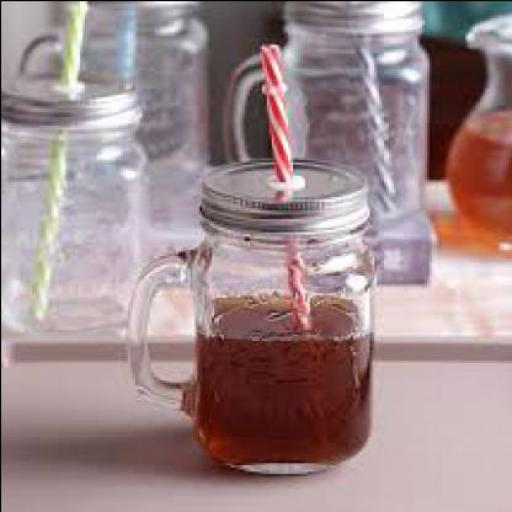biodegradable: (196, 288, 366, 462), (443, 111, 510, 235)
glass: (122, 216, 368, 472), (220, 20, 422, 226), (18, 1, 204, 209), (0, 118, 144, 332), (440, 8, 510, 242)
metal: (204, 155, 364, 229), (1, 69, 132, 118), (283, 0, 419, 33)
